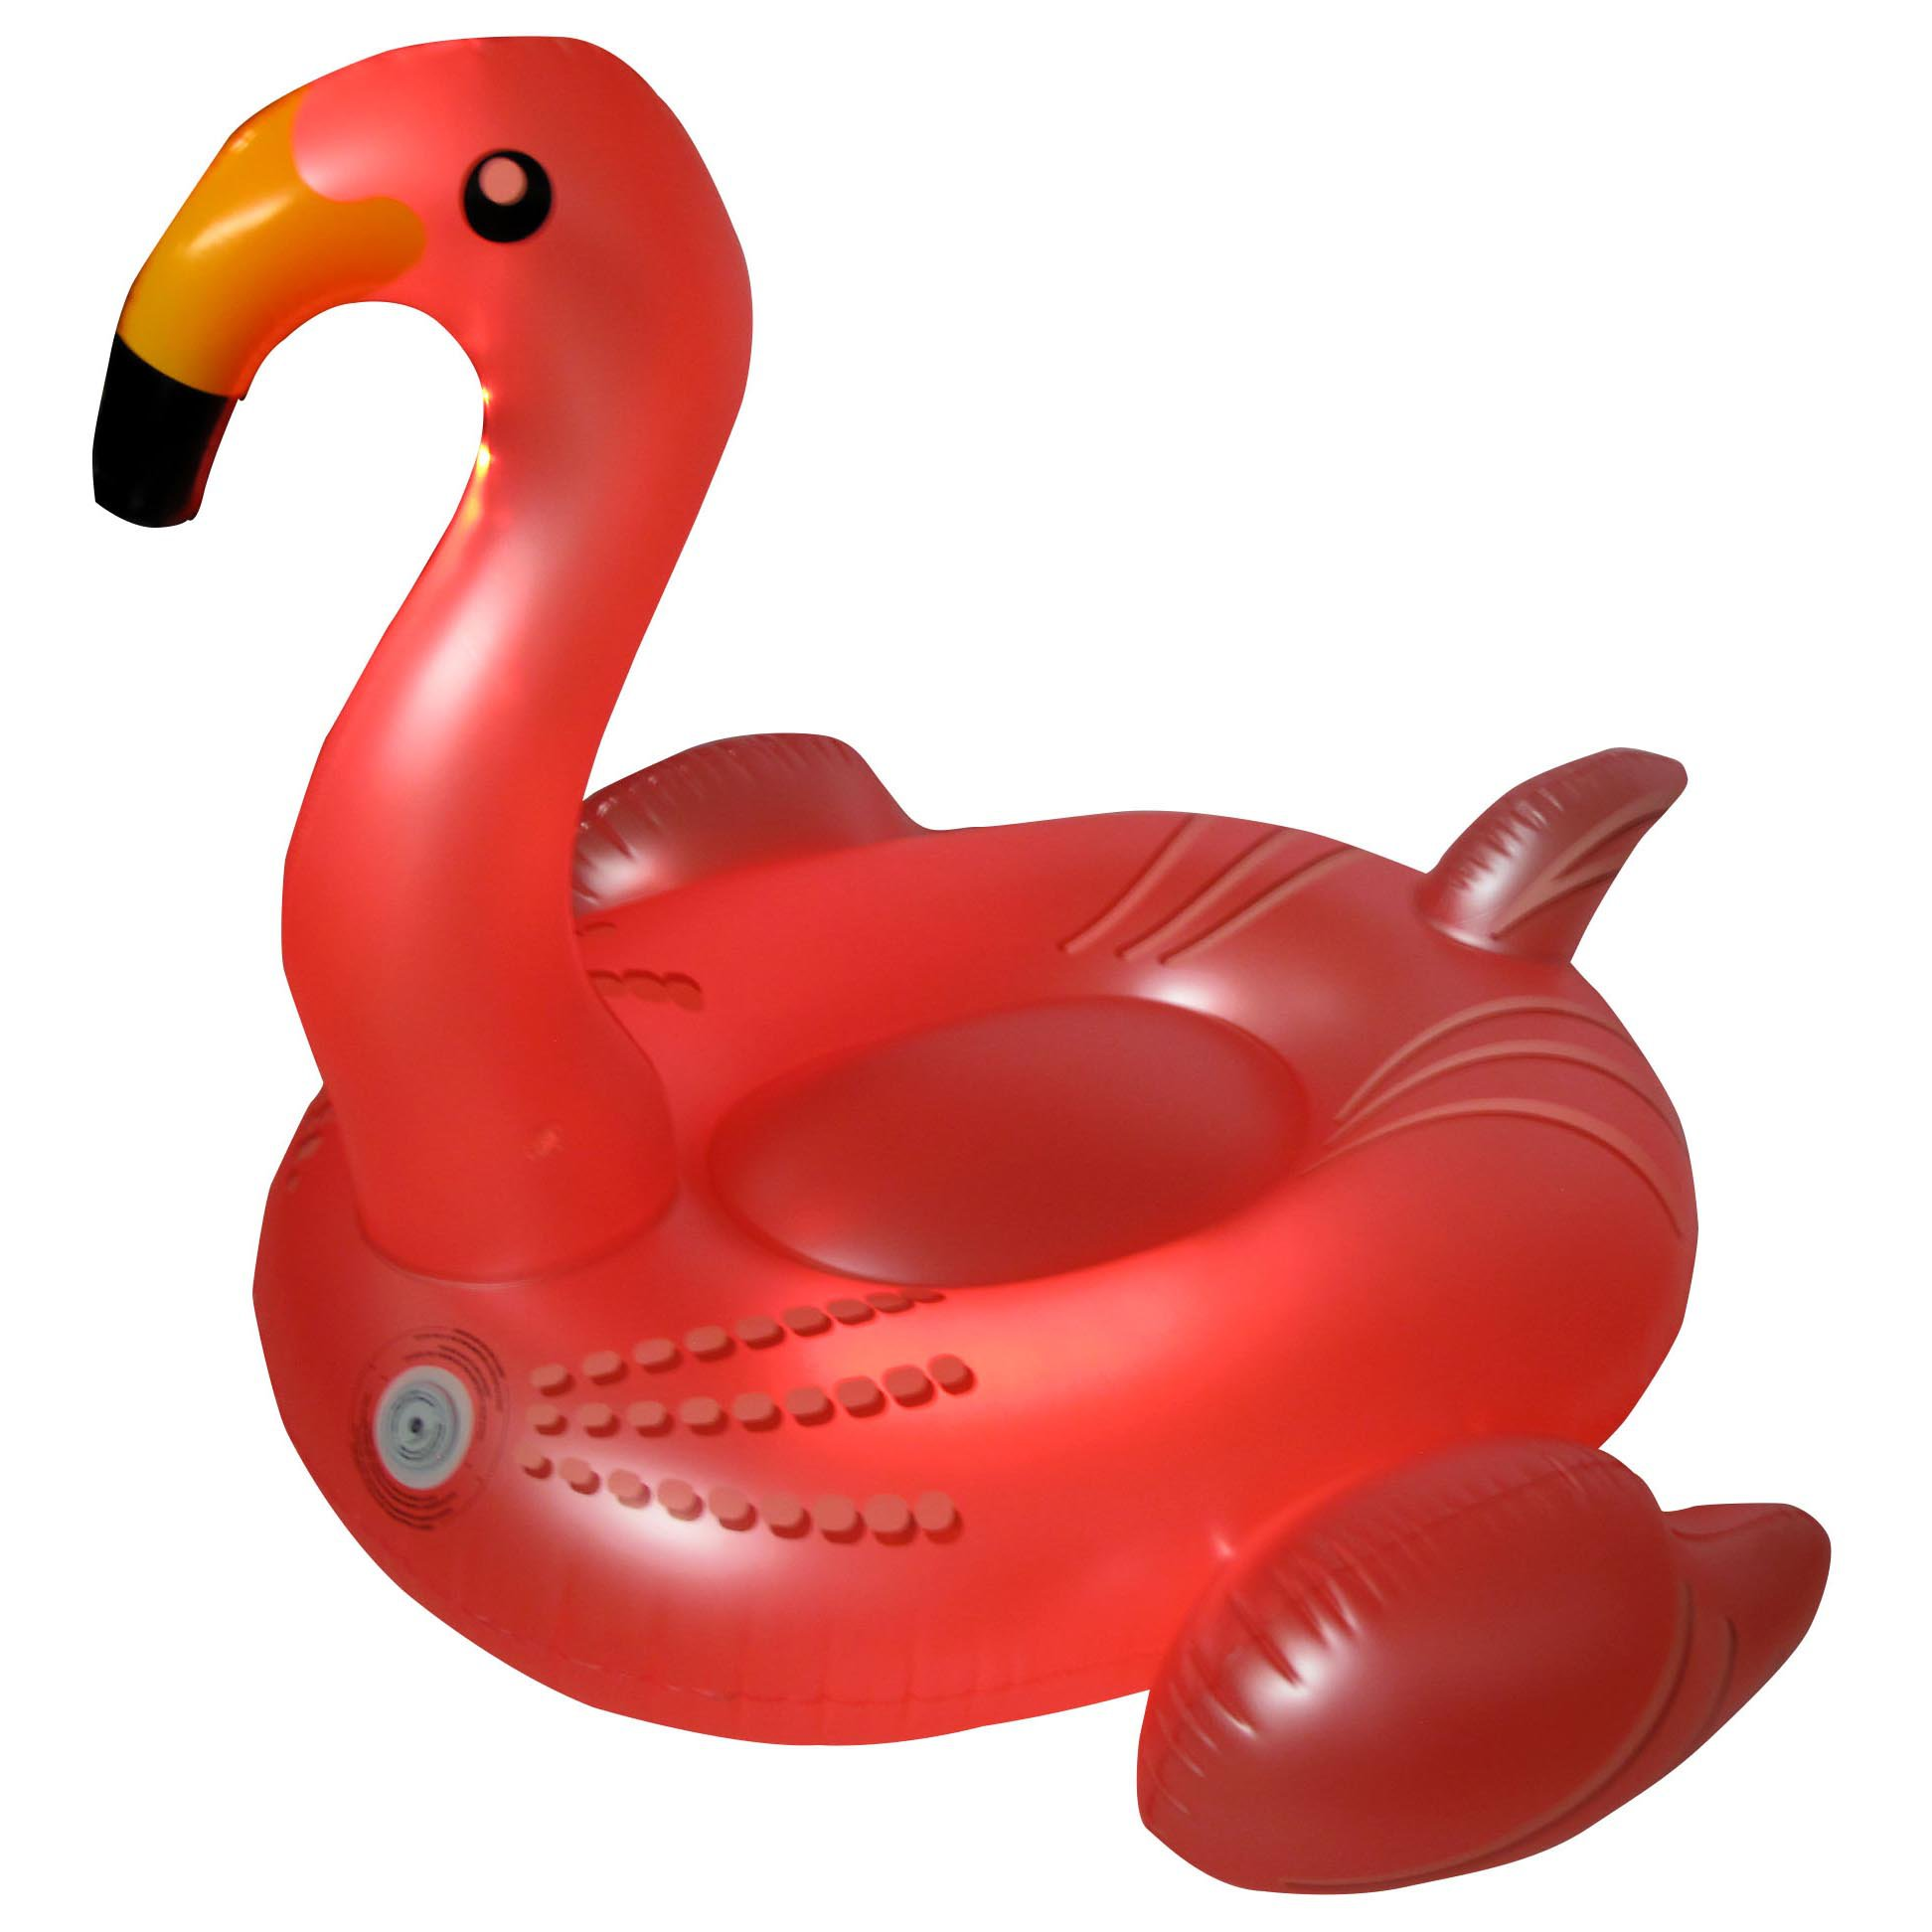Flamingo: (78, 28, 1831, 1900)
